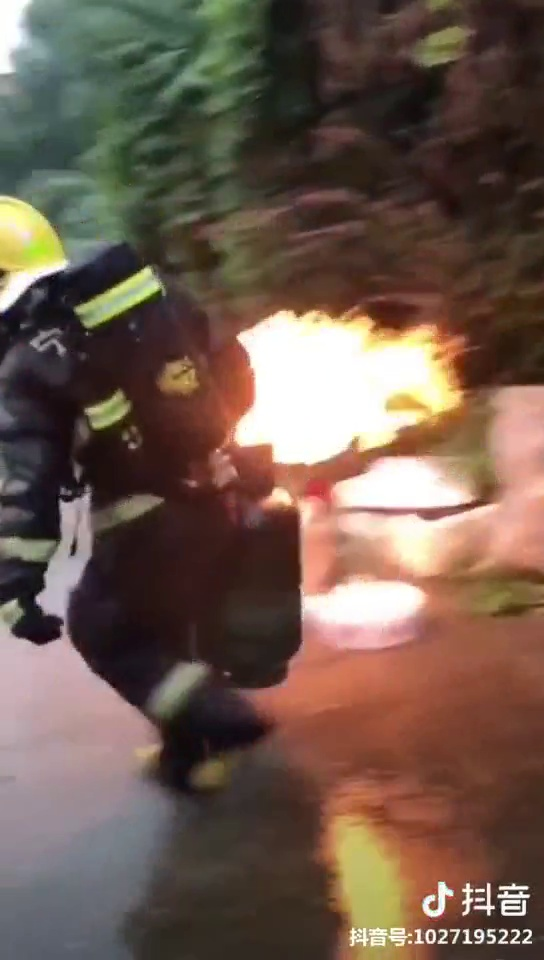fire: (221, 281, 458, 465)
